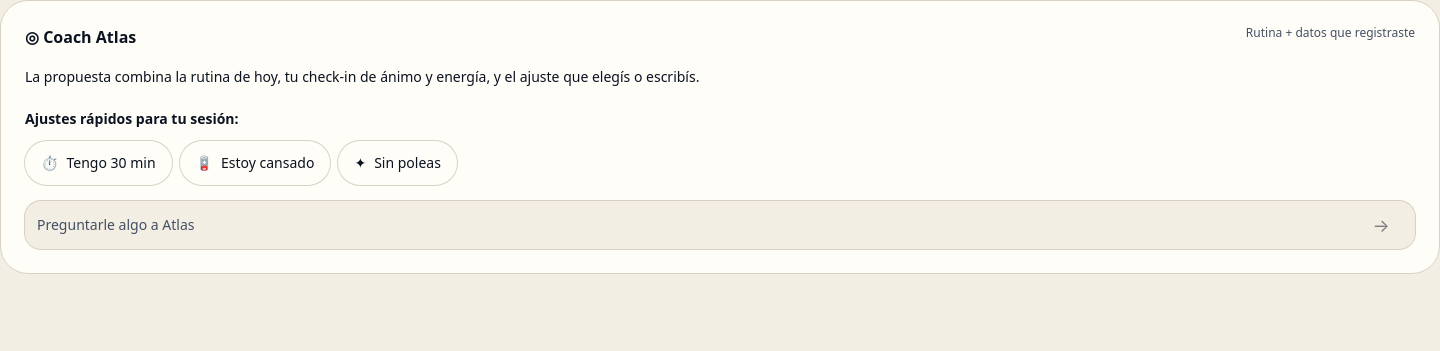
CoachAtlasCard › renders validation errors honestly when the server needs a check-in
Click the button "✦ Sin poleas" at (398, 163), box x1=338 y1=141 x2=457 y2=185
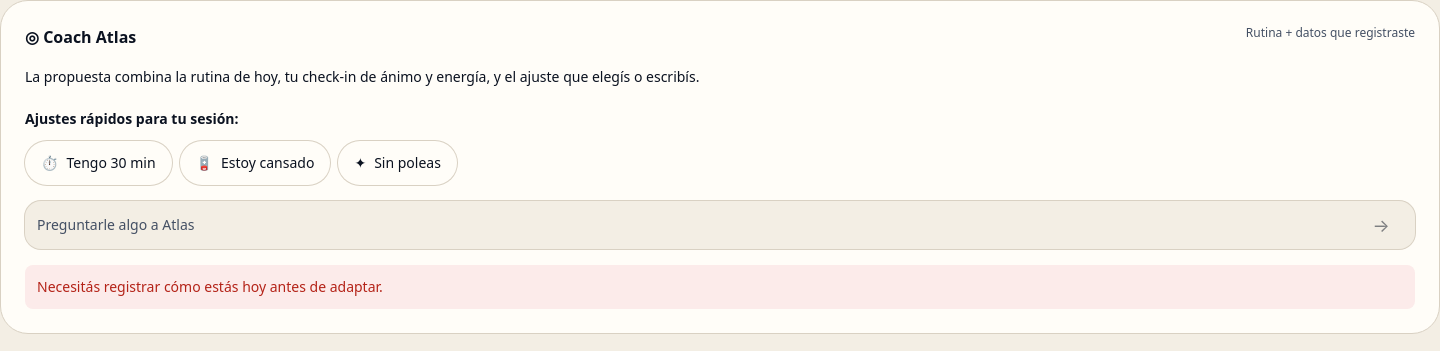
Expected: the text "Necesitás registrar cómo estás hoy antes de adaptar." is shown, x1=37 y1=277 x2=383 y2=296
